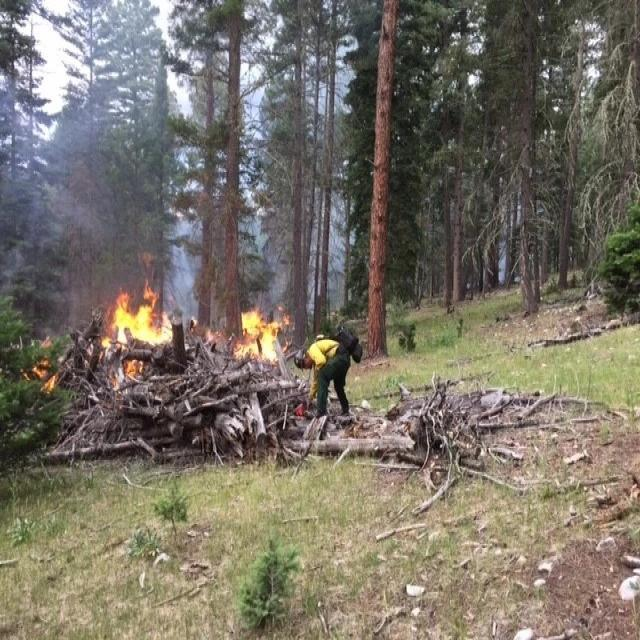Fire: (110, 280, 180, 350), (232, 302, 298, 363)
Smoke: (0, 0, 171, 308)
